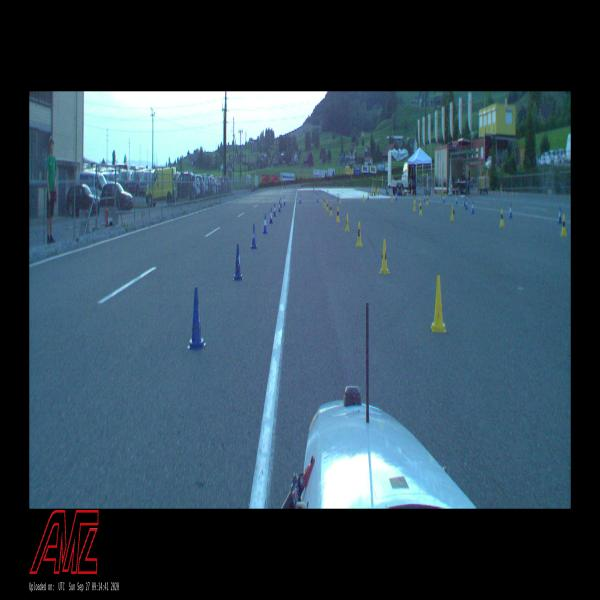blue_cone: (187, 288, 206, 349), (234, 244, 244, 280), (251, 224, 257, 248), (263, 214, 268, 233), (558, 206, 562, 224), (269, 207, 273, 223), (508, 204, 512, 219), (273, 203, 276, 216), (465, 198, 468, 210), (472, 199, 474, 214), (278, 200, 280, 212), (280, 198, 282, 208), (395, 190, 397, 200), (299, 195, 301, 203), (443, 194, 445, 202), (337, 193, 339, 201), (367, 192, 369, 199), (464, 197, 465, 207), (456, 194, 457, 204), (284, 196, 285, 205), (317, 194, 318, 202)
yellow_cone: (432, 275, 446, 330), (380, 239, 389, 273), (357, 222, 362, 246), (561, 214, 566, 236), (499, 210, 504, 226), (450, 206, 455, 221), (345, 213, 349, 231), (336, 206, 340, 222), (419, 202, 422, 215), (413, 200, 416, 210), (418, 197, 421, 207), (330, 202, 332, 215), (326, 200, 328, 212), (324, 198, 326, 208), (426, 194, 428, 204), (323, 195, 325, 204), (391, 193, 393, 202), (339, 195, 341, 203), (363, 194, 364, 202)
